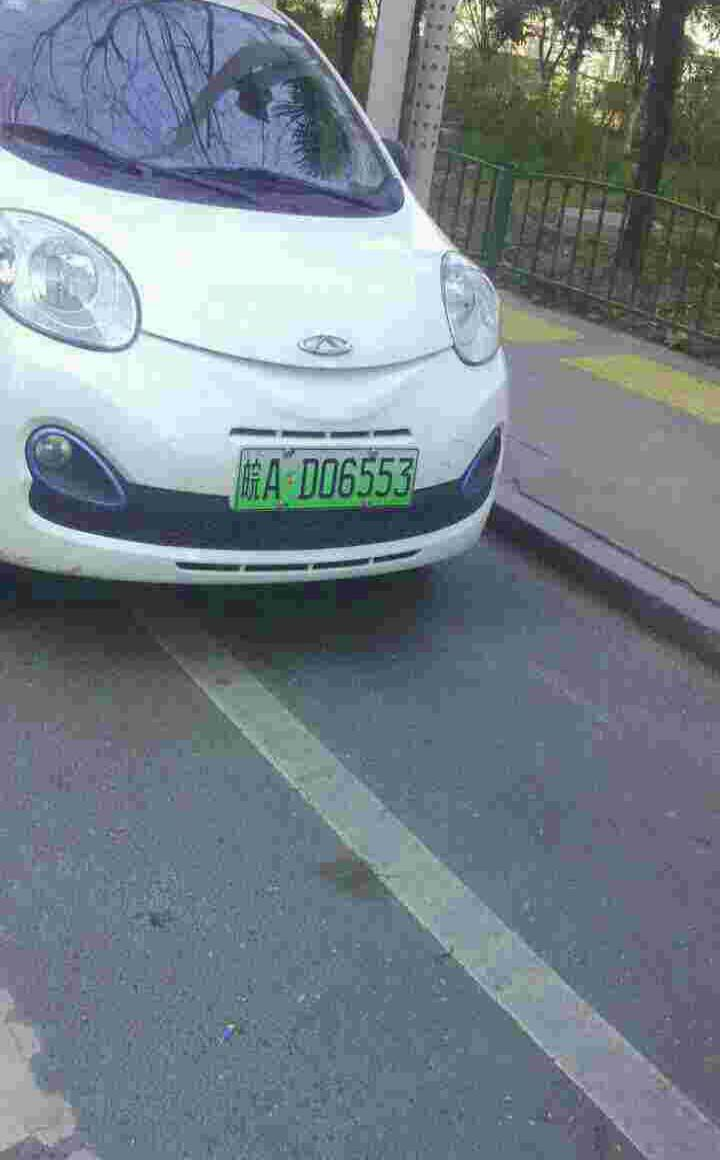car_id: (232, 447, 417, 506)
